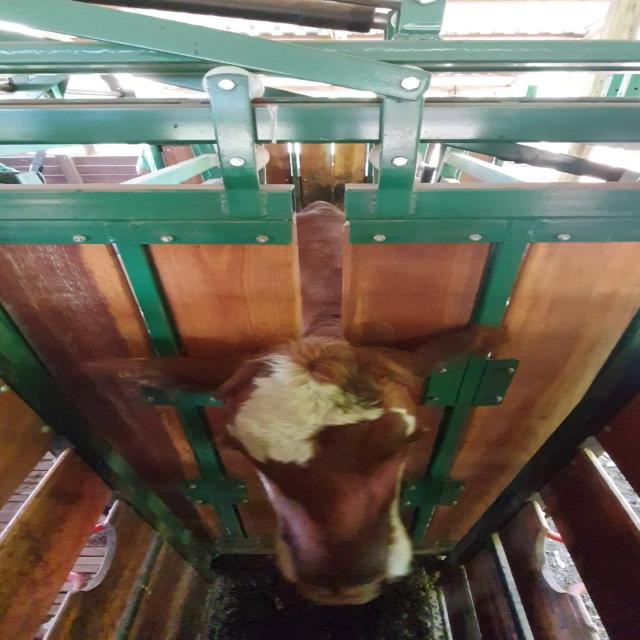cowFace: (222, 343, 415, 605)
